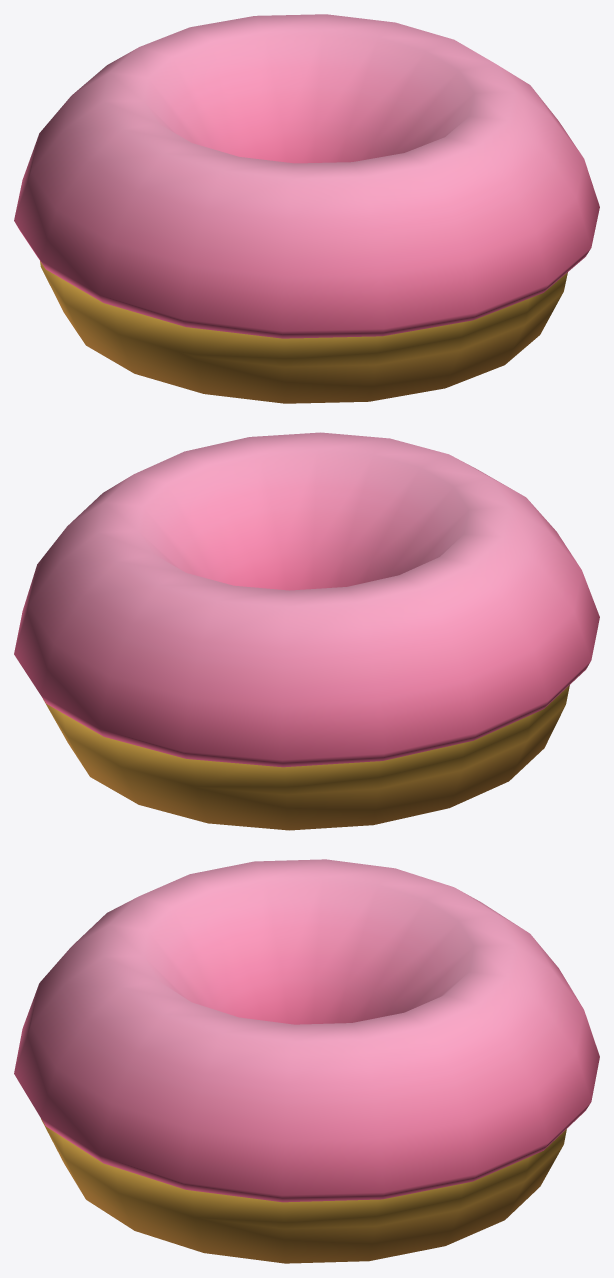
Rendered from lpb_food_donut.fbx.
3 views of the same model, one above another, from view 1: azimuth 30°, elevation 25°; view 2: azimuth 150°, elevation 25°; view 3: azimuth 270°, elevation 25° (orthographic).
Parts seen in each view (by area): view 1: donut; view 2: donut; view 3: donut.
Boxes of the visible parts, left/top/right/bottom form: donut: left=14, top=14, right=599, bottom=403; donut: left=14, top=432, right=599, bottom=830; donut: left=14, top=859, right=599, bottom=1263.
Bounding box in the file's own units: 49.34 × 22.49 × 49.32.
